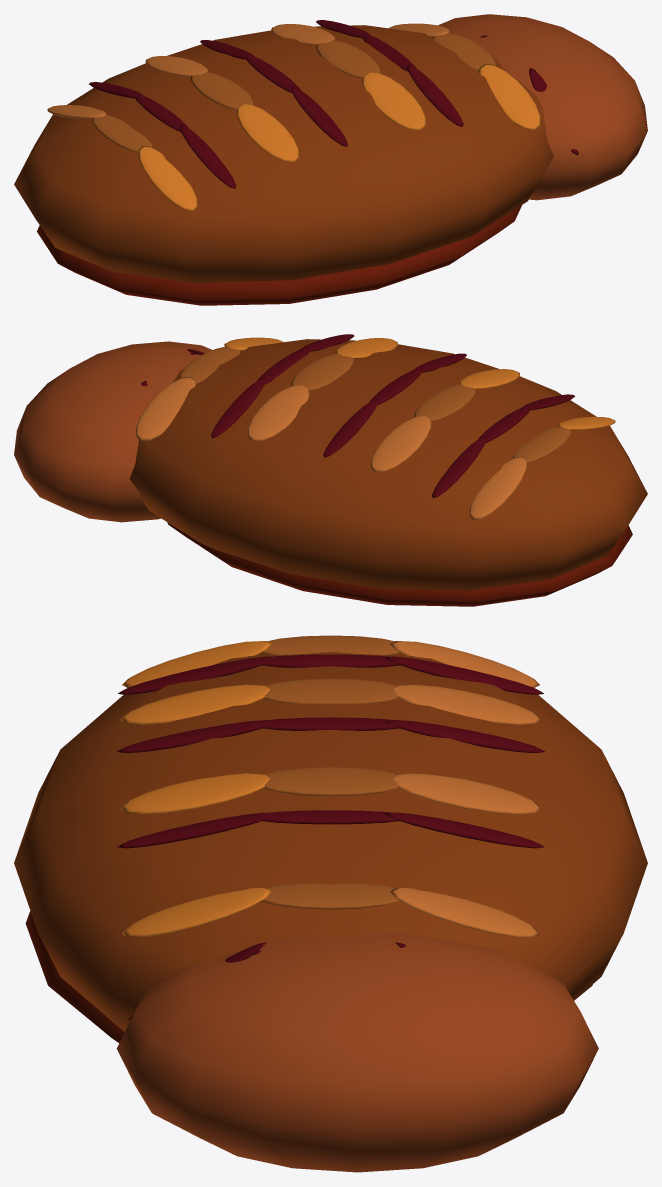
Rendered from CMU3DFoodMeatCookedExtraCloud.glb.
3 views of the same model, one above another, from view 1: azimuth 30°, elevation 25°; view 2: azimuth 150°, elevation 25°; view 3: azimuth 270°, elevation 25° (orthographic). The views are drawn at different scales.
Visible parts, largest first — view 1: irregular seared meat body, offset right meat lobe, dark lower roast edge, embedded browned muscle band 3.1, embedded browned muscle band 2.1, embedded browned muscle band 4.1, embedded browned muscle band 1.1, embedded browned muscle band 3.2, embedded browned muscle band 2.2, embedded browned muscle band 1.2, embedded browned muscle band 4.2, dark sear groove 1.1 (+12 smaller); view 2: irregular seared meat body, offset right meat lobe, dark lower roast edge, embedded browned muscle band 3.3, embedded browned muscle band 2.3, embedded browned muscle band 4.3, embedded browned muscle band 1.3, embedded browned muscle band 3.2, embedded browned muscle band 2.2, embedded browned muscle band 1.2, embedded browned muscle band 4.2, dark sear groove 1.3 (+12 smaller); view 3: irregular seared meat body, offset right meat lobe, embedded browned muscle band 3.1, embedded browned muscle band 3.3, embedded browned muscle band 3.2, embedded browned muscle band 4.1, embedded browned muscle band 4.3, embedded browned muscle band 2.1, embedded browned muscle band 2.3, embedded browned muscle band 4.2, embedded browned muscle band 2.2, embedded browned muscle band 1.2 (+12 smaller).
Part boxes in pixels (x1,y1,x2,y2): irregular seared meat body: (14, 25, 553, 283); offset right meat lobe: (438, 14, 647, 200); dark lower roast edge: (37, 205, 521, 305); embedded browned muscle band 3.1: (362, 72, 426, 130); embedded browned muscle band 2.1: (236, 104, 299, 162); embedded browned muscle band 4.1: (479, 64, 540, 130); embedded browned muscle band 1.1: (138, 146, 197, 211); embedded browned muscle band 3.2: (316, 40, 381, 78); embedded browned muscle band 2.2: (190, 72, 254, 109); embedded browned muscle band 1.2: (92, 115, 152, 152); embedded browned muscle band 4.2: (432, 33, 496, 71); dark sear groove 1.1: (180, 125, 236, 188); irregular seared meat body: (129, 339, 647, 590); offset right meat lobe: (14, 341, 212, 522); dark lower roast edge: (167, 522, 632, 606); embedded browned muscle band 3.3: (247, 385, 309, 441); embedded browned muscle band 2.3: (370, 416, 431, 472); embedded browned muscle band 4.3: (135, 377, 195, 441); embedded browned muscle band 1.3: (469, 456, 526, 519); embedded browned muscle band 3.2: (291, 353, 354, 390); embedded browned muscle band 2.2: (414, 384, 476, 421); embedded browned muscle band 1.2: (513, 426, 571, 463); embedded browned muscle band 4.2: (179, 346, 240, 383); dark sear groove 1.3: (432, 436, 486, 498); irregular seared meat body: (14, 652, 647, 1031); offset right meat lobe: (116, 933, 598, 1172); embedded browned muscle band 3.1: (120, 773, 269, 814); embedded browned muscle band 3.3: (392, 773, 541, 814); embedded browned muscle band 3.2: (263, 767, 398, 796); embedded browned muscle band 4.1: (122, 888, 271, 937); embedded browned muscle band 4.3: (390, 888, 539, 937); embedded browned muscle band 2.1: (120, 684, 270, 724); embedded browned muscle band 2.3: (391, 684, 541, 724); embedded browned muscle band 4.2: (261, 883, 400, 909); embedded browned muscle band 2.2: (263, 678, 398, 703); embedded browned muscle band 1.2: (261, 635, 400, 654).
Size of the model in its own units: 0.566 by 0.1596 by 0.355.
